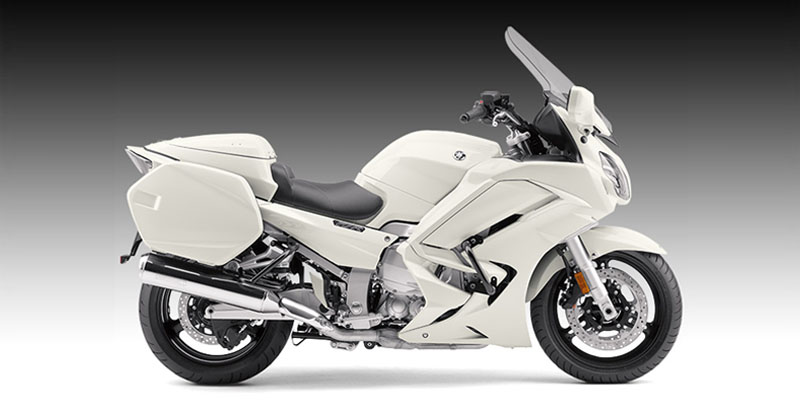motorcycle: (111, 86, 684, 385)
